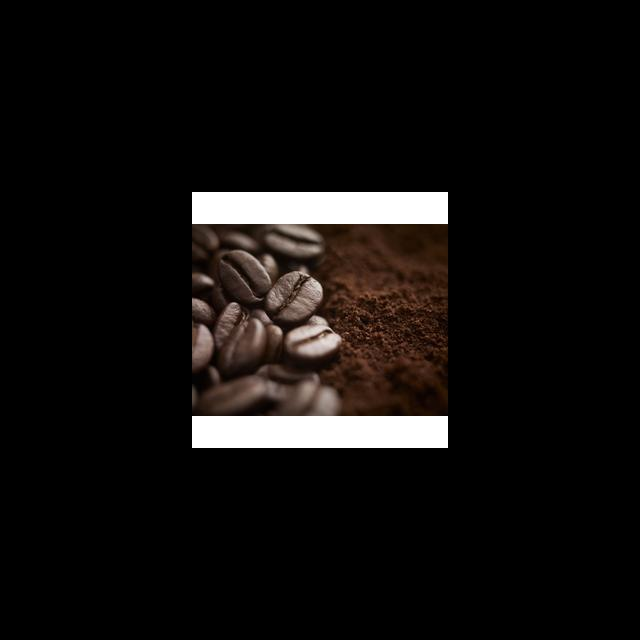food_waste: (364, 297, 448, 375), (210, 244, 278, 314), (263, 257, 321, 328)
